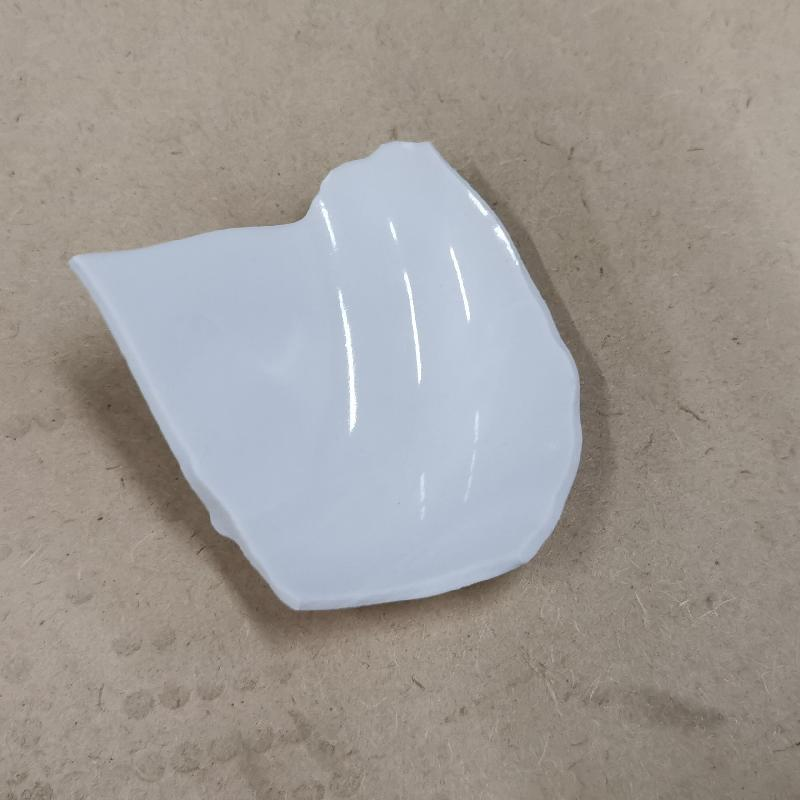ceram: (52, 134, 591, 619)
